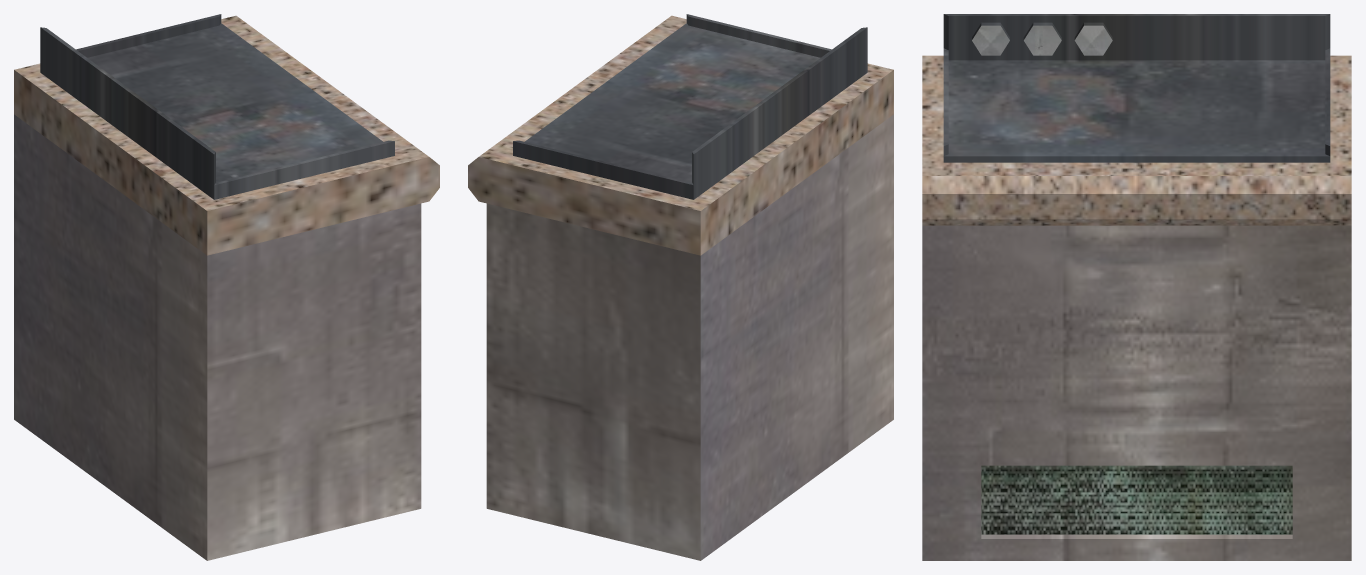
The model's file is stove_counter_top.fbx.
3 renders of one model, left to right at view 1: azimuth 30°, elevation 25°; view 2: azimuth 150°, elevation 25°; view 3: azimuth 270°, elevation 25°, orthographic. The views are drawn at different scales.
Parts seen in each view (by area): view 1: Cube; view 2: Cube; view 3: Cube.
Part boxes in pixels (left/top/right/bottom): Cube: left=14, top=14, right=439, bottom=560; Cube: left=468, top=14, right=893, bottom=560; Cube: left=922, top=14, right=1351, bottom=560.
Bounding box in the file's own units: 62.63 × 102 × 90.
